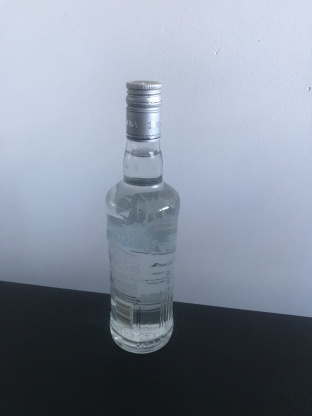nakretka: (123, 78, 164, 143)
